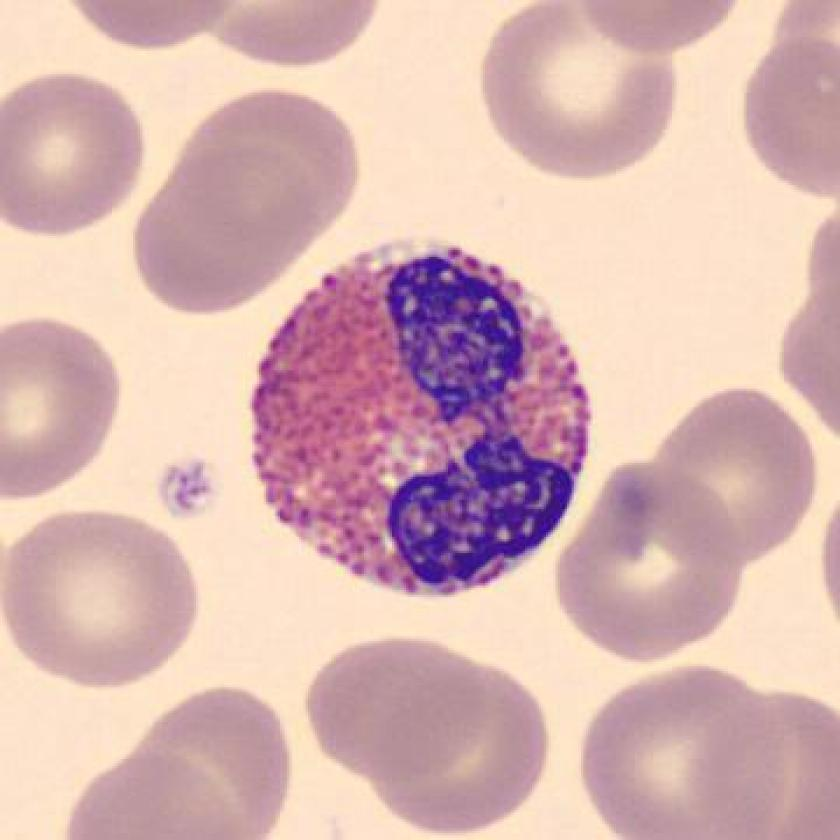eosinophil: (239, 223, 603, 619)
